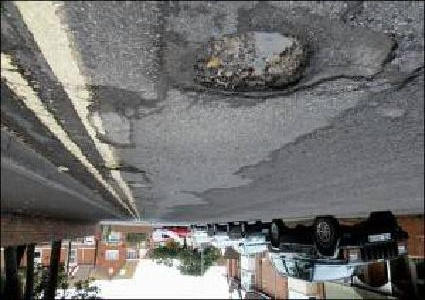pothole: (186, 28, 314, 98)
